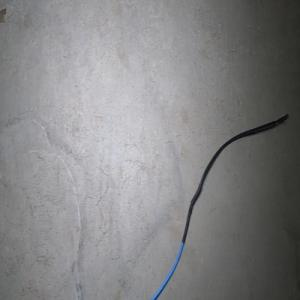Wire: (150, 113, 289, 300)
